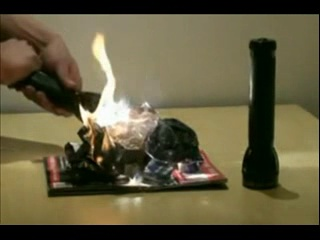fire: (78, 33, 115, 163)
smoke: (116, 96, 158, 146)
